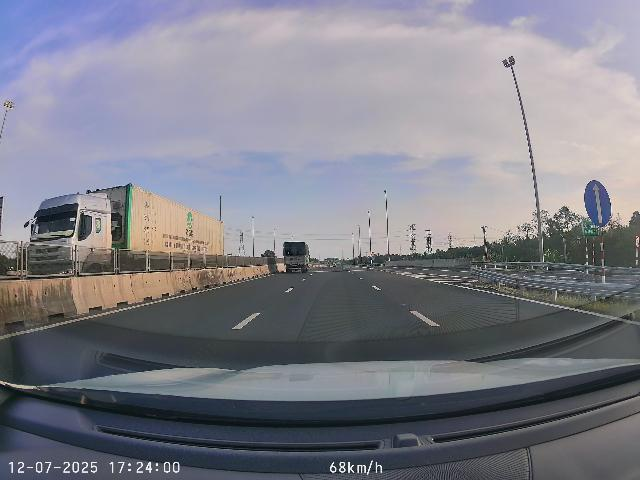301a-cac-xe-chi-duoc-di-thang: (584, 180, 612, 227)
